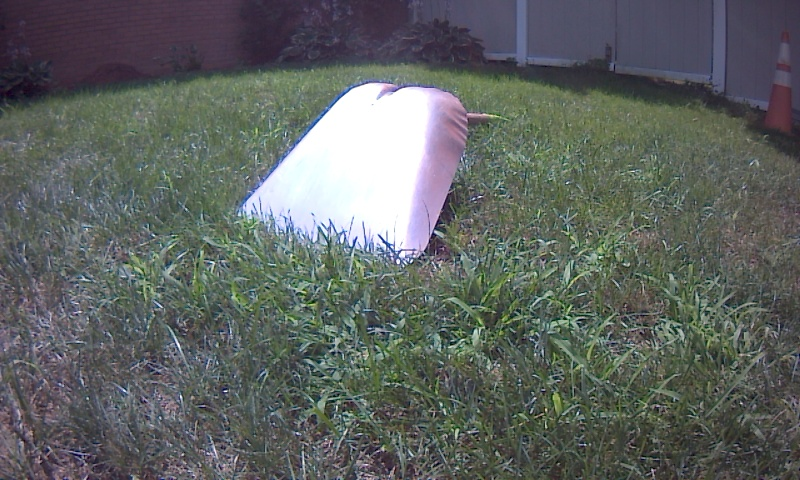shovel: (227, 77, 545, 280)
